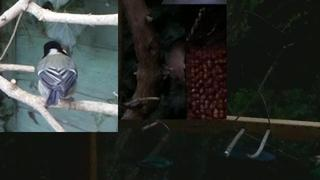great tit: (36, 40, 78, 111)
mouse: (163, 40, 187, 86)
